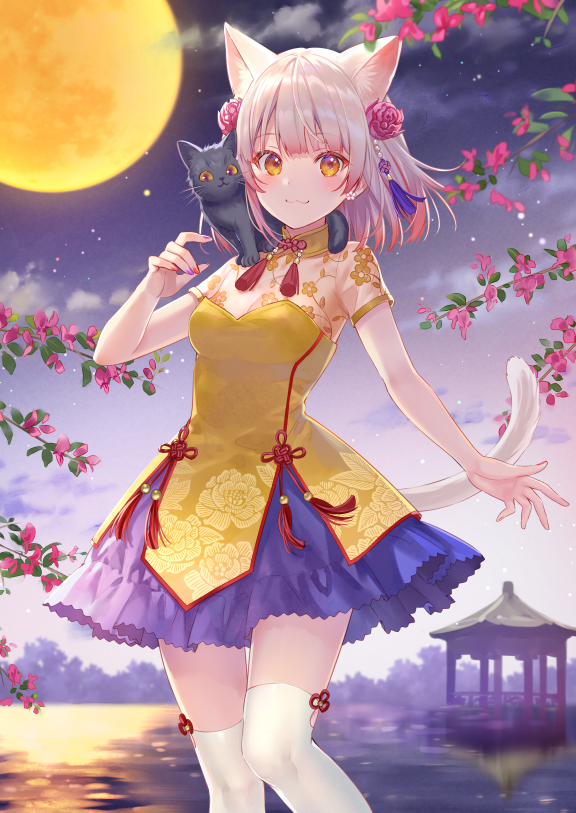纸片人正脸: (226, 31, 395, 232)
